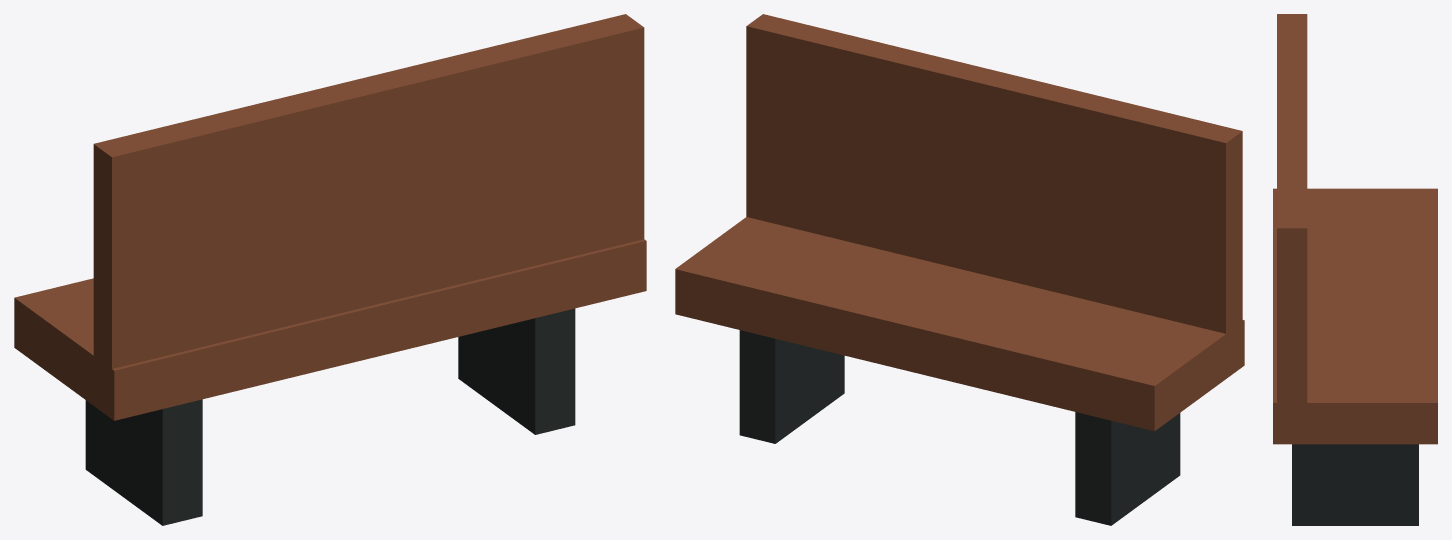
Rendered from bench.glb.
The picture shows the model from 3 angles, left to right: view 1: azimuth 30°, elevation 25°; view 2: azimuth 150°, elevation 25°; view 3: azimuth 270°, elevation 25°; orthographic projection. The views are drawn at different scales.
Visible parts, largest first — view 1: _MeshInstance3D_44, _MeshInstance3D_43, _MeshInstance3D_45, _MeshInstance3D_46; view 2: _MeshInstance3D_44, _MeshInstance3D_43, _MeshInstance3D_45, _MeshInstance3D_46; view 3: _MeshInstance3D_43, _MeshInstance3D_44, _MeshInstance3D_46.
Boxes of the visible parts, x1,y1,x2,y2 form: _MeshInstance3D_44: (93,14,644,376); _MeshInstance3D_43: (14,239,646,420); _MeshInstance3D_45: (85,399,202,525); _MeshInstance3D_46: (458,308,575,434); _MeshInstance3D_44: (746,14,1242,341); _MeshInstance3D_43: (675,217,1244,431); _MeshInstance3D_45: (1075,412,1180,525); _MeshInstance3D_46: (739,330,844,443); _MeshInstance3D_43: (1273,188,1437,444); _MeshInstance3D_44: (1277,14,1307,412); _MeshInstance3D_46: (1292,444,1418,525).
Bounding box in the file's own units: 2 × 1.4 × 0.65.
